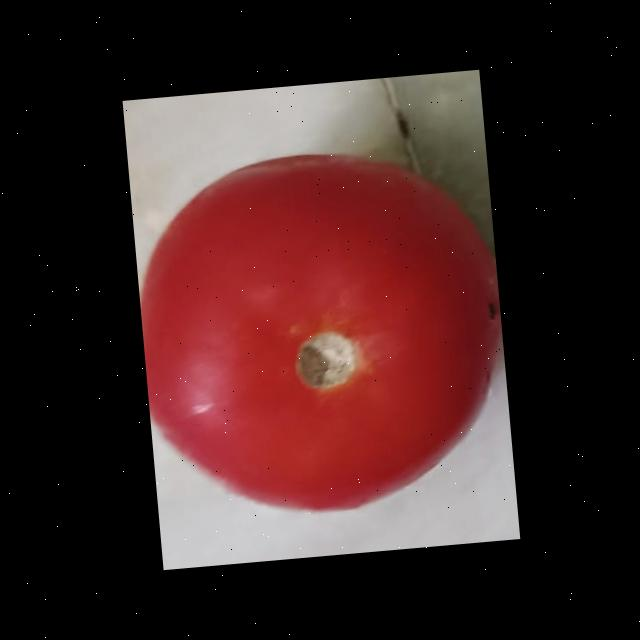tomato: (131, 141, 517, 547)
